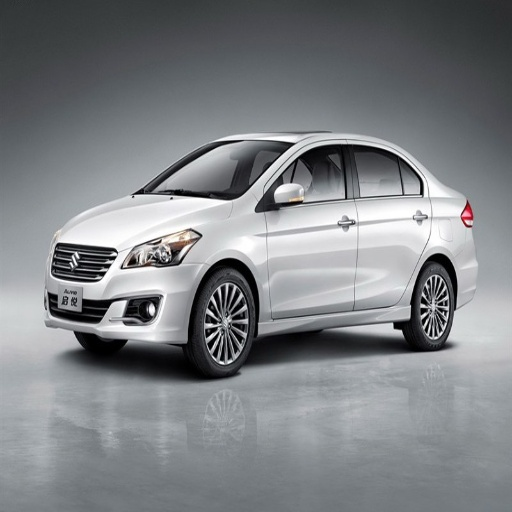back_left_door: (350, 142, 430, 307)
front_bumper: (42, 243, 206, 343)
front_glass: (140, 140, 288, 199)
front_left_door: (261, 142, 357, 318)
